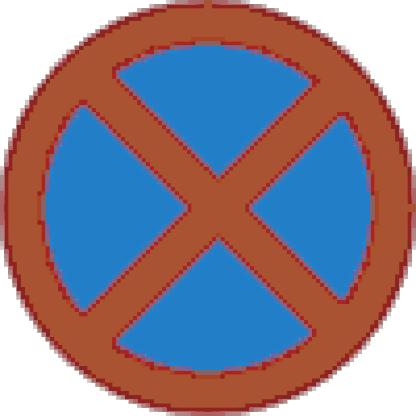No stopping: (0, 9, 415, 416)
